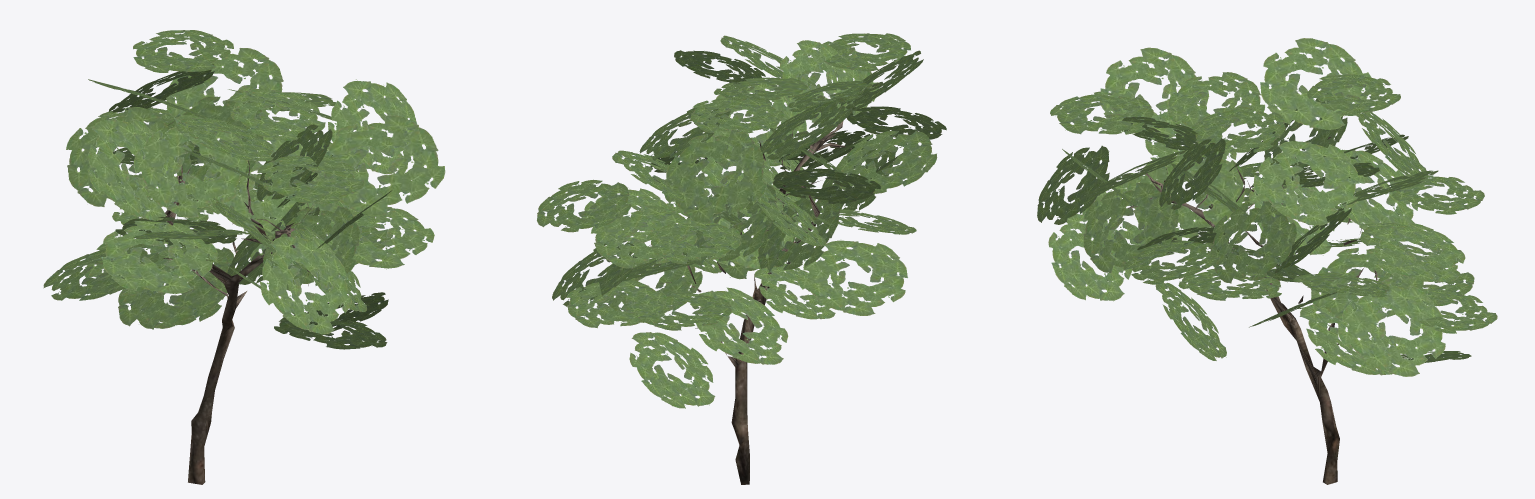
Rendered from tree-small-02-far-mobile.glb.
The picture shows the model from 3 angles, left to right: view 1: azimuth 30°, elevation 25°; view 2: azimuth 150°, elevation 25°; view 3: azimuth 270°, elevation 25°; orthographic projection. The views are drawn at different scales.
Visible parts, largest first — view 1: tree_small_02_LOD0; view 2: tree_small_02_LOD0; view 3: tree_small_02_LOD0.
Part boxes in pixels (x1,y1,x2,y2): tree_small_02_LOD0: [43, 30, 445, 484]; tree_small_02_LOD0: [537, 33, 946, 484]; tree_small_02_LOD0: [1037, 38, 1497, 484].
Bounding box in the file's own units: 4.8 × 4.75 × 5.48.
3 materials, 3 textured.
